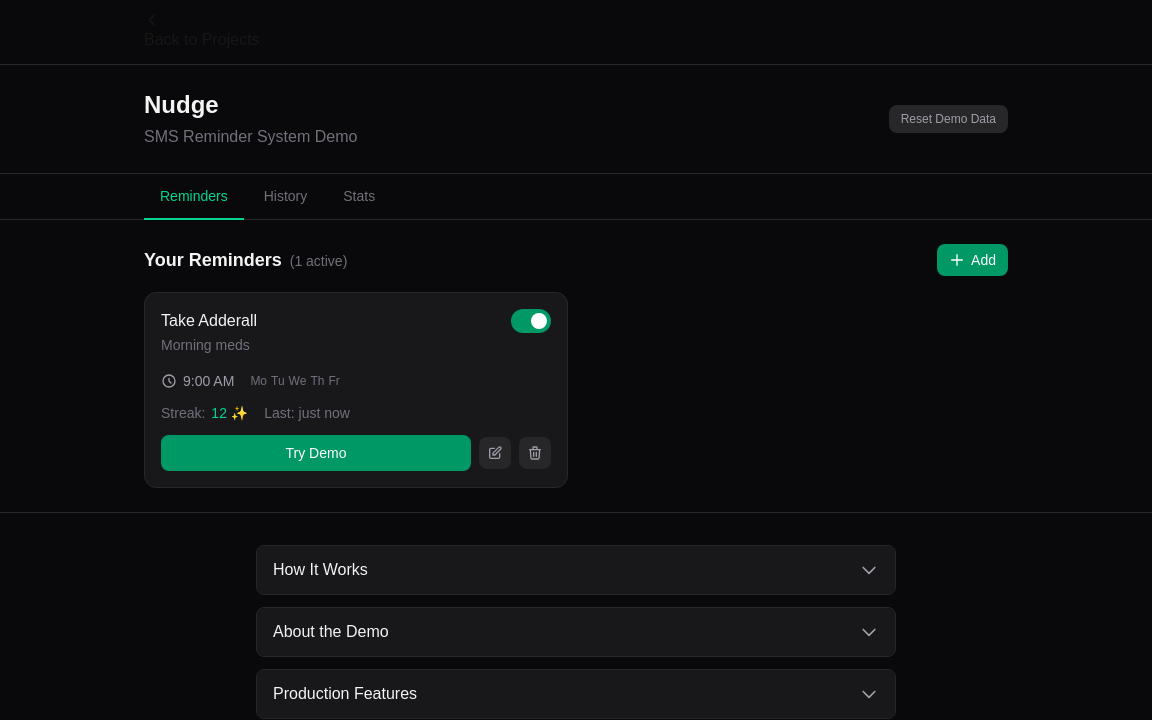
Scenario: NudgeDemoPage › switches to stats tab when clicked
Step 1. Click the button "stats" → (359, 197), box x1=327 y1=174 x2=391 y2=220
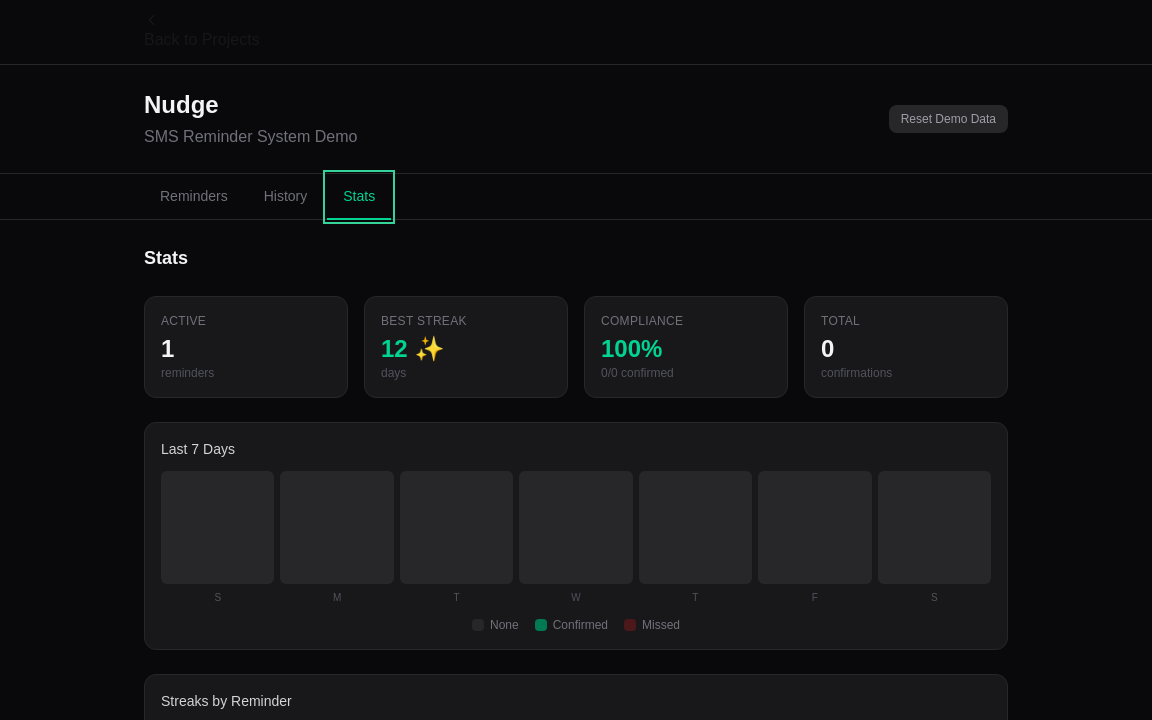
Expected: the heading "Stats" is shown, x1=144 y1=248 x2=188 y2=268
